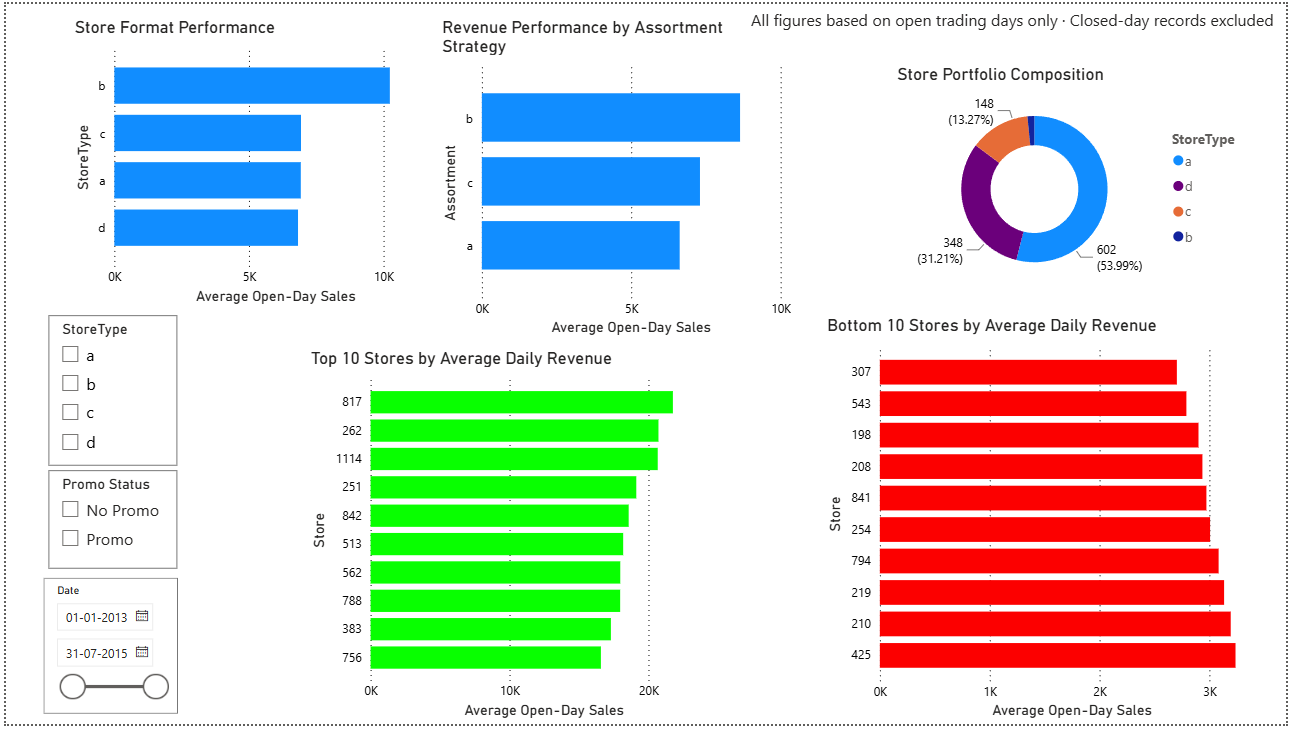

Layout of this report page (visuals, bound fields, positions):
{"tool":"powerbi","page":{"name":"Page 2","canvas":[1280,720],"ordinal":1},"visuals":[{"type":"slicer","fields":{"Values":["store.StoreType"]},"box":[42.9,311.4,128.6,150],"z":0},{"type":"slicer","fields":{"Values":["train.Promo Status"]},"box":[42.9,465.7,128.6,98.6],"z":1000},{"type":"slicer","fields":{"Values":["Calender.Date"]},"box":[37.1,574.3,134.3,135.7],"z":2000},{"type":"donutChart","title":"Store Portfolio Composition","fields":{"Category":["store.StoreType"],"Y":["CountNonNull(store.Store)"]},"box":[885.7,60,365.7,231.4],"z":3000},{"type":"barChart","title":"Store Format Performance","fields":{"Category":["store.StoreType"],"Y":["train.Average Open-Day Sales"]},"box":[64.3,12.9,382.9,292.9],"z":4000},{"type":"barChart","title":"Revenue Performance by Assortment Strategy","fields":{"Y":["train.Average Open-Day Sales"],"Category":["store.Assortment"]},"box":[431.4,12.9,358.6,324.3],"z":5000},{"type":"barChart","title":"Top 10 Stores by Average Daily Revenue","fields":{"Category":["train.Store"],"Y":["train.Average Open-Day Sales"]},"box":[300,344.3,427.1,375.7],"z":6000},{"type":"barChart","title":"Bottom 10 Stores by Average Daily Revenue","fields":{"Category":["train.Store"],"Y":["train.Average Open-Day Sales"]},"box":[815.7,311.4,454.3,408.6],"z":7000},{"type":"textbox","box":[740,0,540,60],"z":8000}]}

Visuals, with their boxes in screenshot pixels (x1, y1, x2, y2), scaled from the page's 1280x720 canvas onto the 1292x732 screenshot:
slicer - store.StoreType: region(43, 317, 173, 469)
slicer - train.Promo Status: region(43, 473, 173, 574)
slicer - Calender.Date: region(37, 584, 173, 722)
"Store Portfolio Composition" donutChart: region(894, 61, 1263, 296)
"Store Format Performance" barChart: region(65, 13, 451, 311)
"Revenue Performance by Assortment Strategy" barChart: region(435, 13, 797, 343)
"Top 10 Stores by Average Daily Revenue" barChart: region(303, 350, 734, 731)
"Bottom 10 Stores by Average Daily Revenue" barChart: region(823, 317, 1282, 731)
textbox: region(747, 0, 1291, 61)
